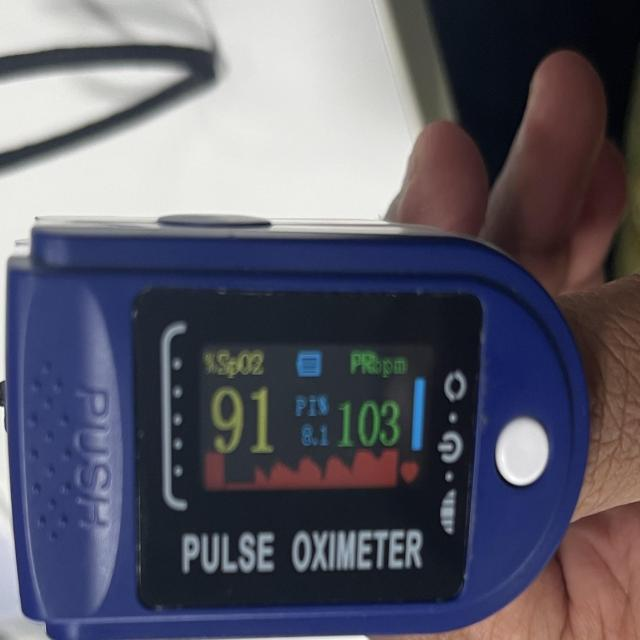spo2: (3, 216, 592, 640)
